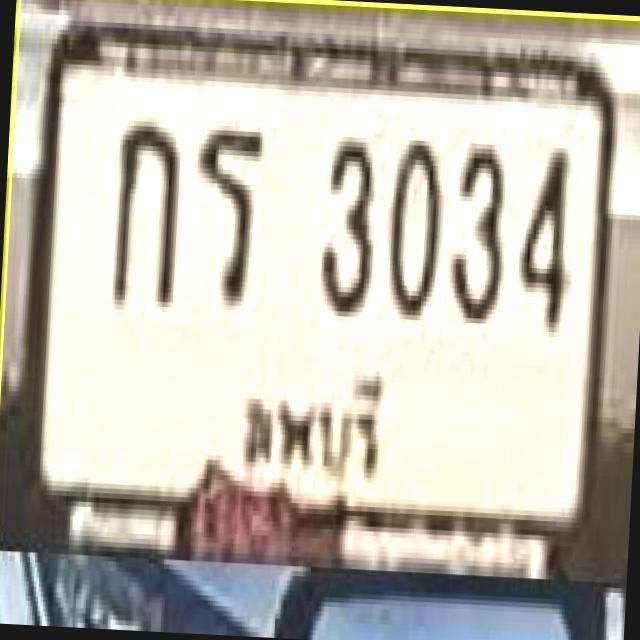license_plate: (21, 14, 622, 584)
